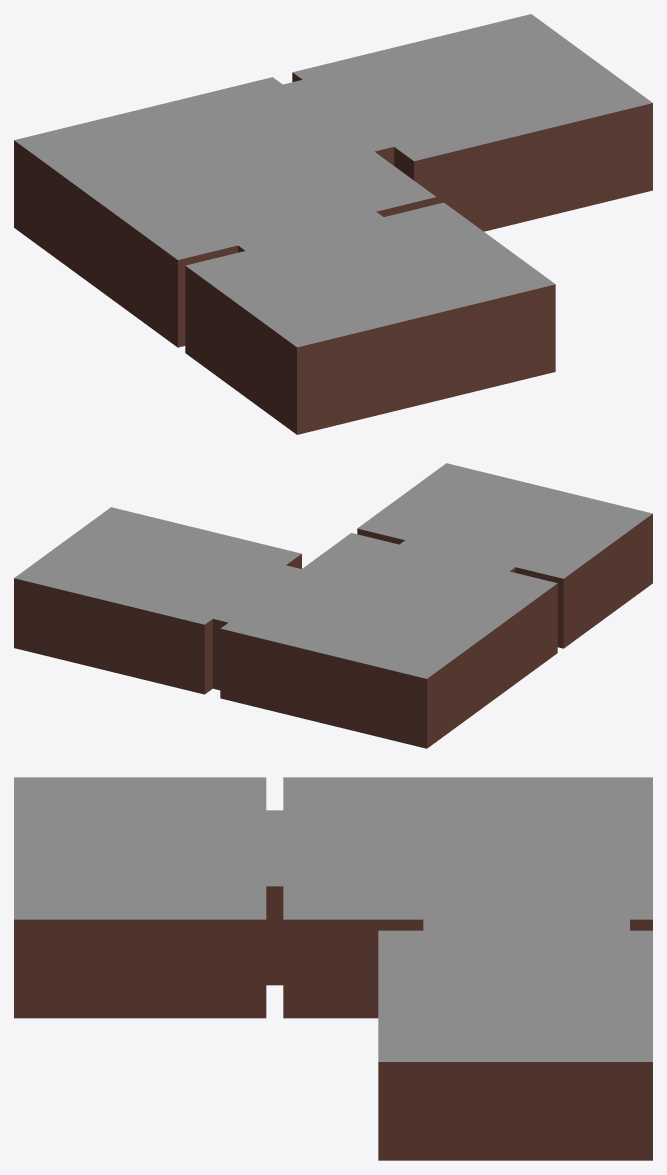
Rendered from Layout2.fbx.
3 renders of one model, top to bottom at view 1: azimuth 30°, elevation 25°; view 2: azimuth 150°, elevation 25°; view 3: azimuth 270°, elevation 25°, orthographic. The views are drawn at different scales.
Visible parts, largest first — view 1: Layout2; view 2: Layout2; view 3: Layout2.
Part boxes in pixels (bbox=[...]): Layout2: bbox=[14, 14, 652, 434]; Layout2: bbox=[14, 463, 652, 748]; Layout2: bbox=[14, 777, 652, 1160].
Bounding box in the file's own units: 17.54 × 2.83 × 16.62.
